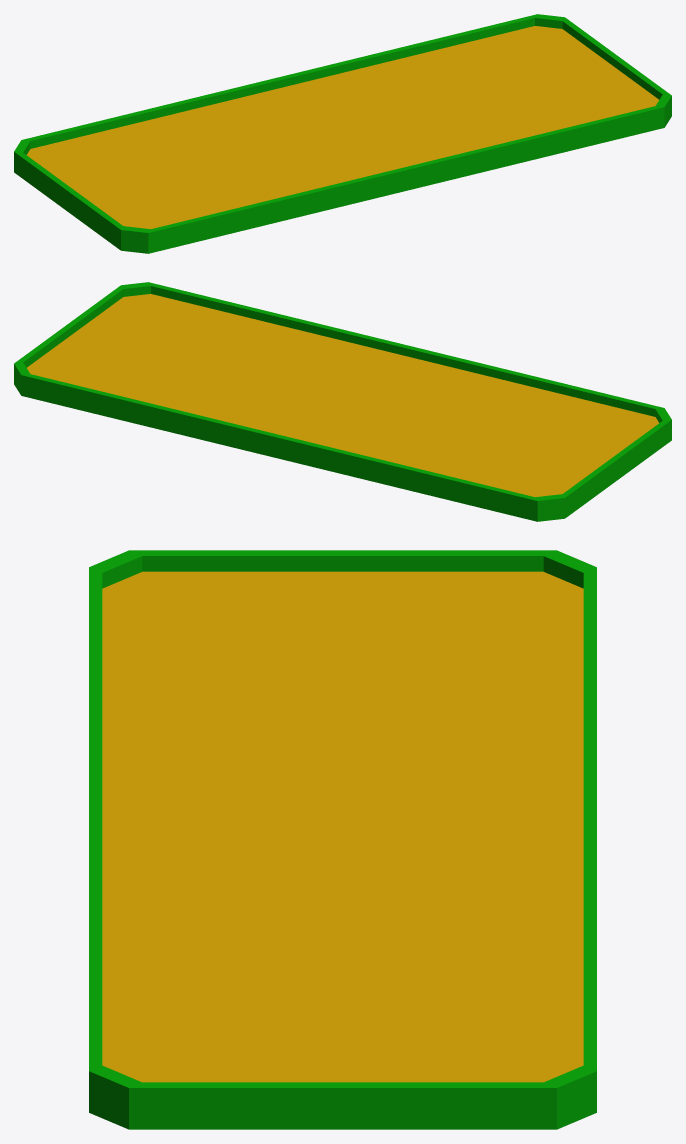
Rendered from SM0215_Lobby_PigBoard_01.fbx.
3 views of the same model, one above another, from view 1: azimuth 30°, elevation 25°; view 2: azimuth 150°, elevation 25°; view 3: azimuth 270°, elevation 25° (orthographic). The views are drawn at different scales.
Visible parts, largest first — view 1: SM0215_Lobby_PigBoard_01; view 2: SM0215_Lobby_PigBoard_01; view 3: SM0215_Lobby_PigBoard_01.
Part boxes in pixels (<box>): SM0215_Lobby_PigBoard_01: <box>14,14,671,253</box>; SM0215_Lobby_PigBoard_01: <box>14,282,671,521</box>; SM0215_Lobby_PigBoard_01: <box>89,550,596,1129</box>.
Bounding box in the file's own units: 474 × 189 × 17.08.
